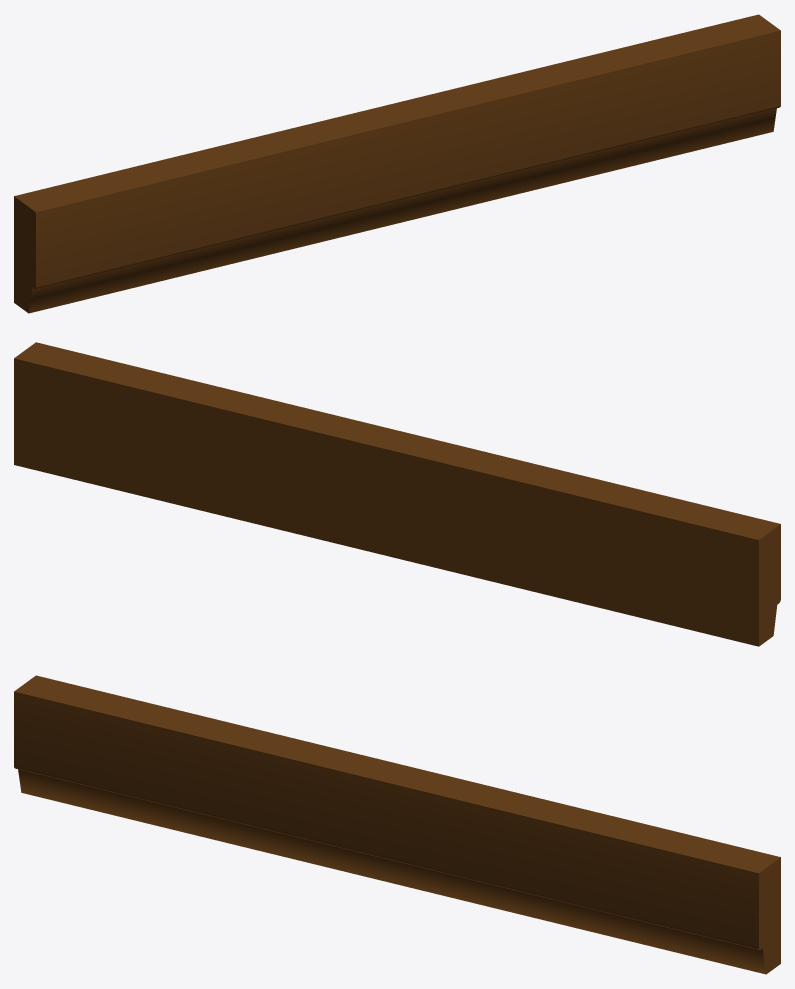
The model's file is original-34.obj.
3 renders of one model, top to bottom at view 1: azimuth 30°, elevation 25°; view 2: azimuth 150°, elevation 25°; view 3: azimuth 330°, elevation 25°, orthographic.
Visible parts, largest first — view 1: DF_21_T1/DF_21_T/mesh21/mesh21-geometry#mesh21-geometry; view 2: DF_21_T1/DF_21_T/mesh21/mesh21-geometry#mesh21-geometry; view 3: DF_21_T1/DF_21_T/mesh21/mesh21-geometry#mesh21-geometry.
Part boxes in pixels (x1,y1,x2,y2): DF_21_T1/DF_21_T/mesh21/mesh21-geometry#mesh21-geometry: [14, 14, 780, 313]; DF_21_T1/DF_21_T/mesh21/mesh21-geometry#mesh21-geometry: [14, 342, 780, 646]; DF_21_T1/DF_21_T/mesh21/mesh21-geometry#mesh21-geometry: [14, 675, 780, 974].
Size of the model in its own units: 0.635 by 0.0868 by 0.0326.
